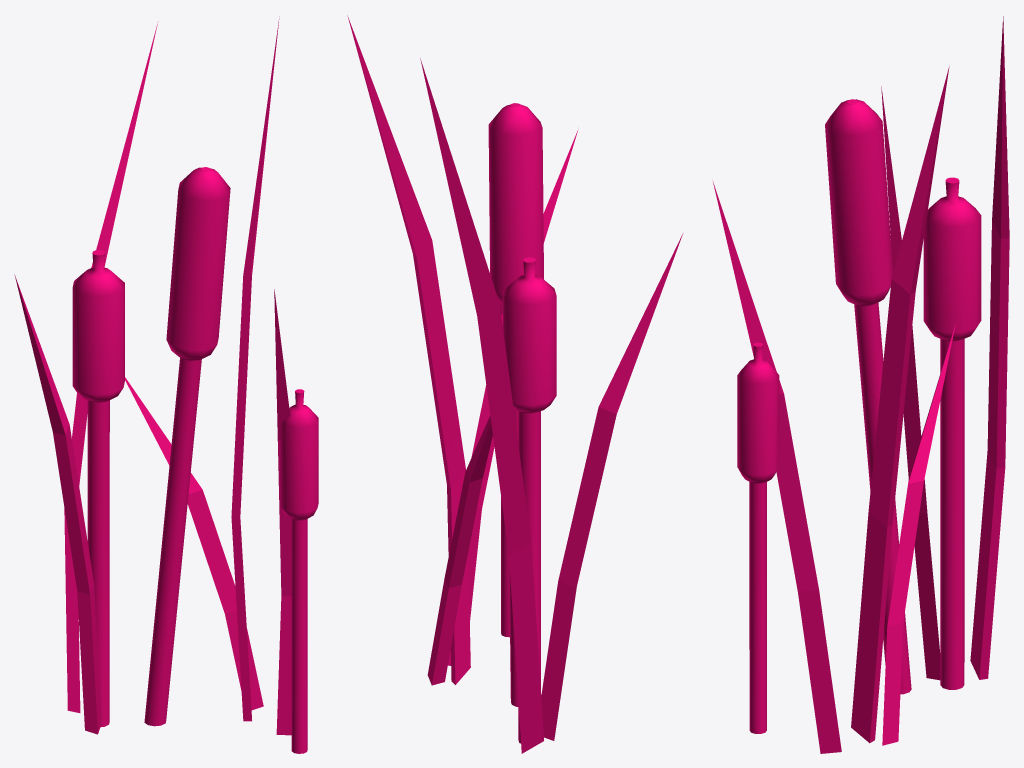
File: SM_SS_Reeds_2.fbx
3 renders of one model, left to right at view 1: azimuth 30°, elevation 25°; view 2: azimuth 150°, elevation 25°; view 3: azimuth 270°, elevation 25°, orthographic. The views are drawn at different scales.
Visible parts, largest first — view 1: SM_SS_Reeds_2; view 2: SM_SS_Reeds_2; view 3: SM_SS_Reeds_2.
Boxes of the visible parts, box(x1,y1,x2,y2) form: SM_SS_Reeds_2: box(14, 16, 318, 753); SM_SS_Reeds_2: box(347, 15, 683, 753); SM_SS_Reeds_2: box(713, 16, 1009, 753).
Bounding box in the file's own units: 29.84 × 24.08 × 63.85.
